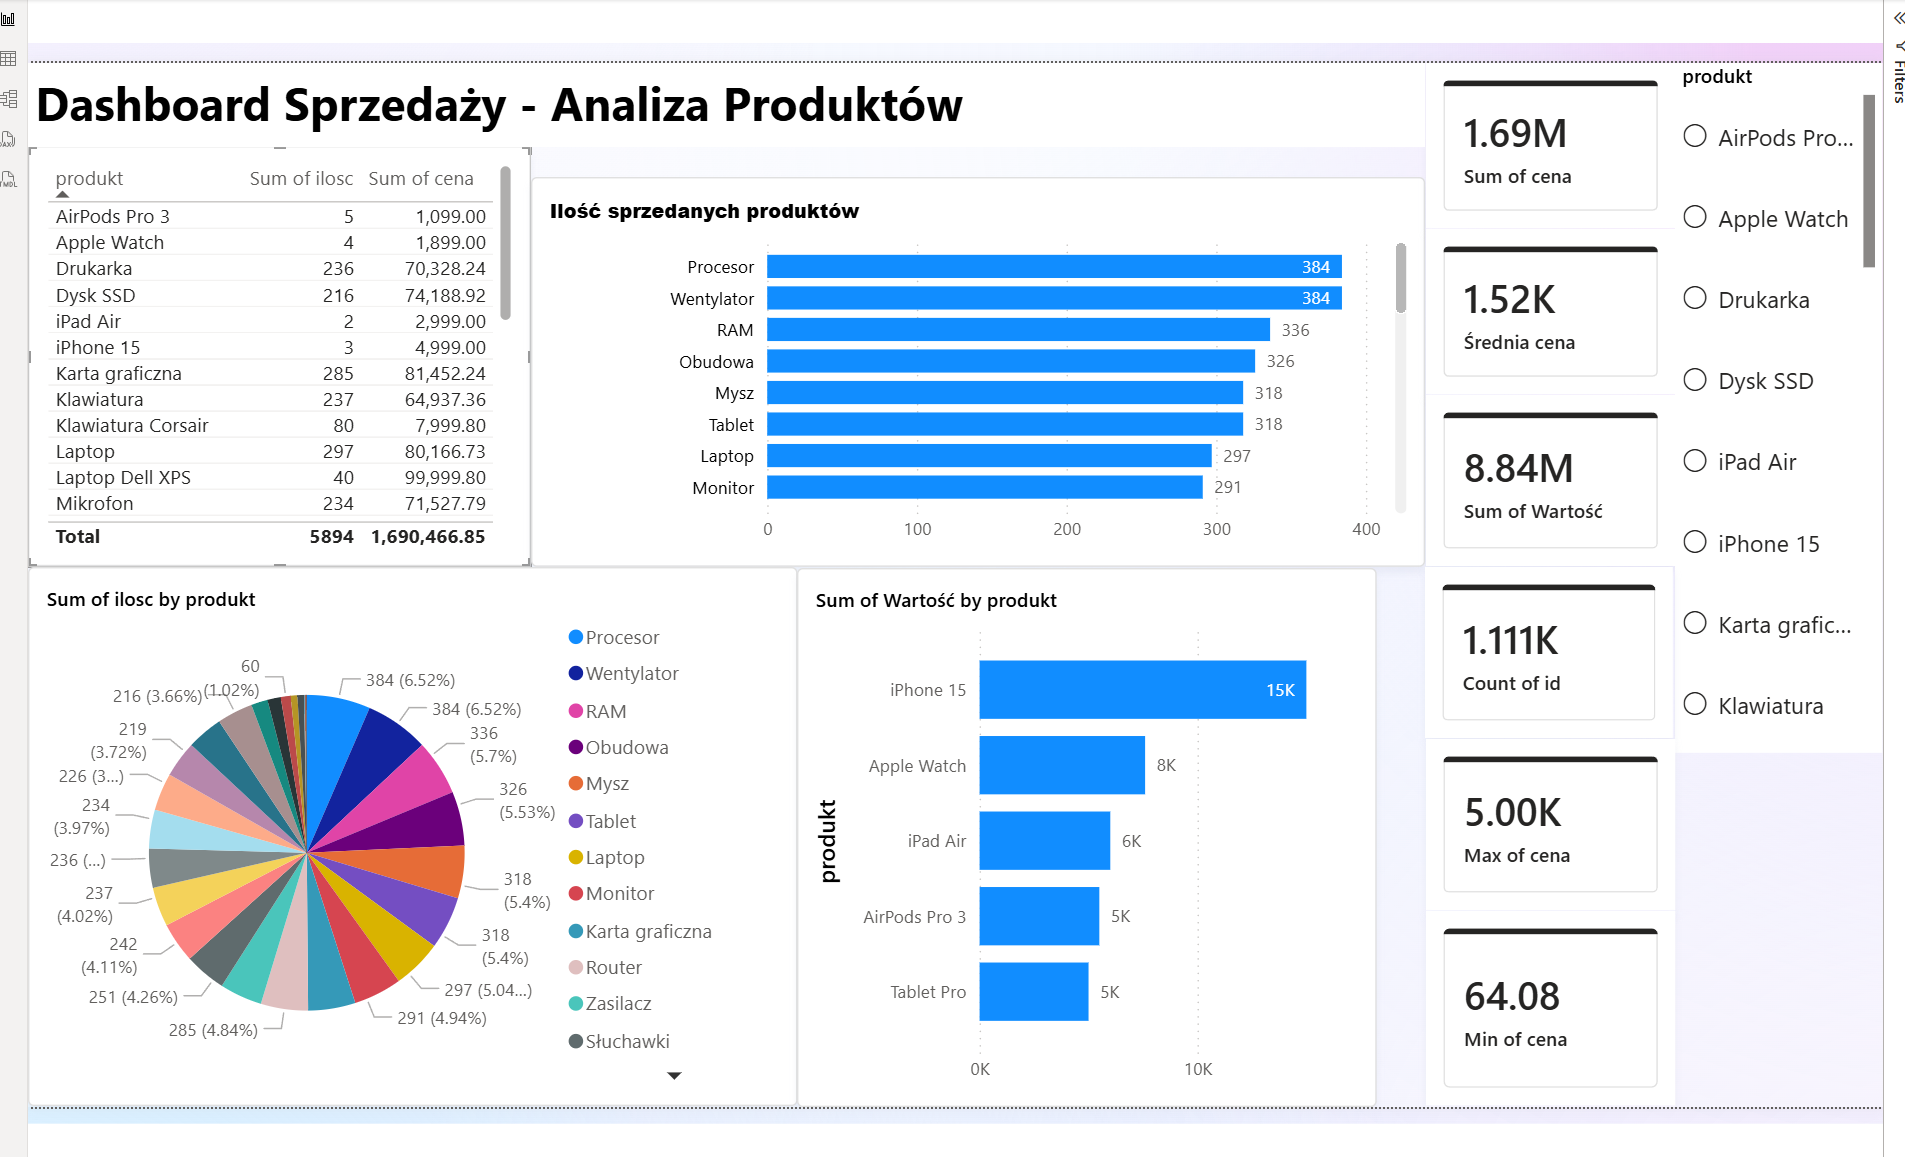

What the dashboard file says about the page in this screenshot:
{"tool":"powerbi","page":{"name":"Page 1","canvas":[1280,720],"ordinal":0},"visuals":[{"type":"tableEx","fields":{"Values":["TestSprzedaz.produkt","Sum(TestSprzedaz.ilosc)","Sum(TestSprzedaz.cena)"]},"box":[0,57.5,347,290.1],"z":0},{"type":"clusteredBarChart","title":"Ilość sprzedanych produktów","fields":{"Category":["TestSprzedaz.produkt"],"Y":["Sum(TestSprzedaz.ilosc)"]},"box":[347,78.6,617.3,269.1],"z":1000},{"type":"cardVisual","fields":{"Data":["Sum(TestSprzedaz.cena)"]},"box":[964.4,0,172.2,114.6],"z":2000},{"type":"cardVisual","fields":{"Data":["TestSprzedaz.Średnia cena"]},"box":[964.4,114.6,172.2,114.6],"z":3000},{"type":"pieChart","fields":{"Category":["TestSprzedaz.produkt"],"Y":["Sum(TestSprzedaz.ilosc)"]},"box":[0,347.6,530.7,372.4],"z":4000},{"type":"cardVisual","fields":{"Data":["Sum(TestSprzedaz.Wartość)"]},"box":[964.4,229.1,172.2,118.4],"z":5000},{"type":"clusteredBarChart","fields":{"Category":["TestSprzedaz.produkt"],"Y":["Sum(TestSprzedaz.Wartość)"]},"box":[530.7,348.2,399.6,371.8],"z":6000},{"type":"textbox","box":[0,0,964.3,57.5],"z":7000},{"type":"listSlicer","fields":{"Values":["TestSprzedaz.produkt"]},"box":[1136.7,0,143.3,475.7],"z":8000},{"type":"cardVisual","fields":{"Data":["CountNonNull(TestSprzedaz.id)"]},"box":[964.2,347.7,171.9,118.5],"z":9000},{"type":"cardVisual","fields":{"Data":["Max(TestSprzedaz.cena)"]},"box":[964.6,466.4,172,118.5],"z":10000},{"type":"cardVisual","fields":{"Data":["Min(TestSprzedaz.cena)"]},"box":[964.6,585,172,134.8],"z":11000}]}

Visuals, with their boxes on the page's 1280x720 design canvas (x1, y1, x2, y2). These are canvas units, not pixel positions in the 1905x1157 screenshot, which may show the page scaled, cropped or inside an application window:
tableEx - TestSprzedaz.produkt x Sum(TestSprzedaz.ilosc): {"left": 0, "top": 58, "right": 347, "bottom": 348}
"Ilość sprzedanych produktów" clusteredBarChart: {"left": 347, "top": 79, "right": 964, "bottom": 348}
cardVisual - Sum(TestSprzedaz.cena): {"left": 964, "top": 0, "right": 1137, "bottom": 115}
cardVisual - TestSprzedaz.Średnia cena: {"left": 964, "top": 115, "right": 1137, "bottom": 229}
pieChart - TestSprzedaz.produkt x Sum(TestSprzedaz.ilosc): {"left": 0, "top": 348, "right": 531, "bottom": 720}
cardVisual - Sum(TestSprzedaz.Wartość): {"left": 964, "top": 229, "right": 1137, "bottom": 348}
clusteredBarChart - TestSprzedaz.produkt x Sum(TestSprzedaz.Wartość): {"left": 531, "top": 348, "right": 930, "bottom": 720}
textbox: {"left": 0, "top": 0, "right": 964, "bottom": 58}
listSlicer - TestSprzedaz.produkt: {"left": 1137, "top": 0, "right": 1280, "bottom": 476}
cardVisual - CountNonNull(TestSprzedaz.id): {"left": 964, "top": 348, "right": 1136, "bottom": 466}
cardVisual - Max(TestSprzedaz.cena): {"left": 965, "top": 466, "right": 1137, "bottom": 585}
cardVisual - Min(TestSprzedaz.cena): {"left": 965, "top": 585, "right": 1137, "bottom": 720}
